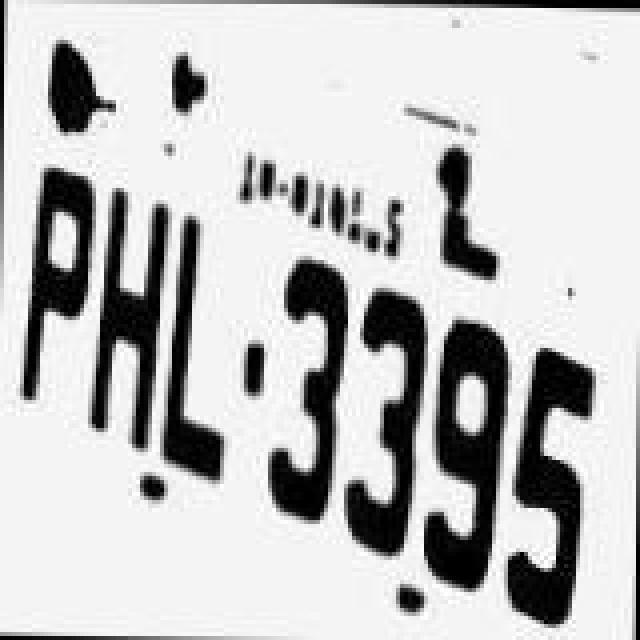3: (260, 244, 344, 528), (346, 284, 426, 564)
5: (502, 348, 598, 636)
9: (424, 312, 516, 592)
H: (90, 182, 166, 466)
L: (164, 208, 244, 480)
P: (12, 164, 100, 468)
